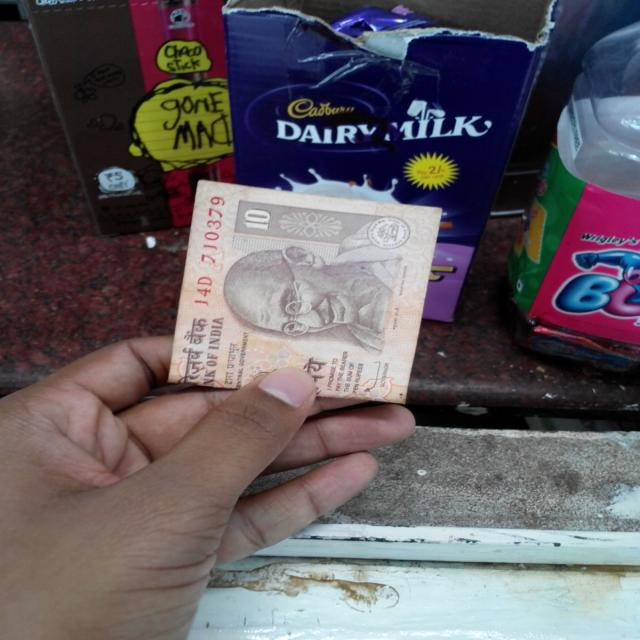10rs: (180, 181, 442, 406)
